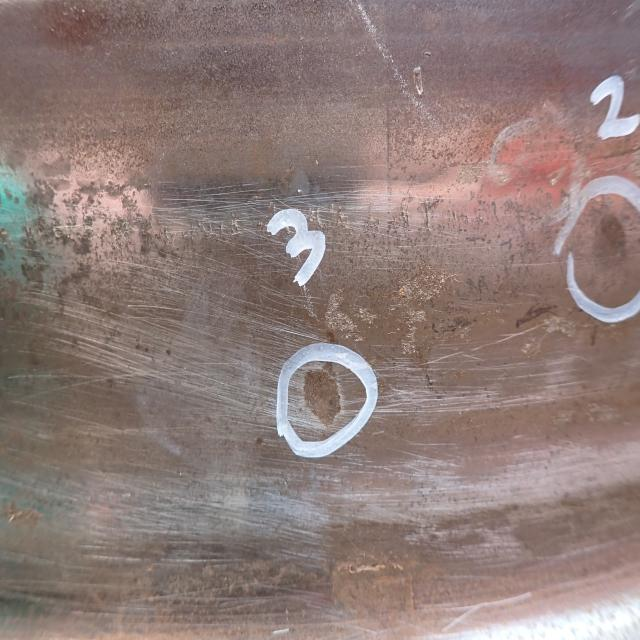geshang: (592, 211, 628, 279), (305, 368, 343, 430)
